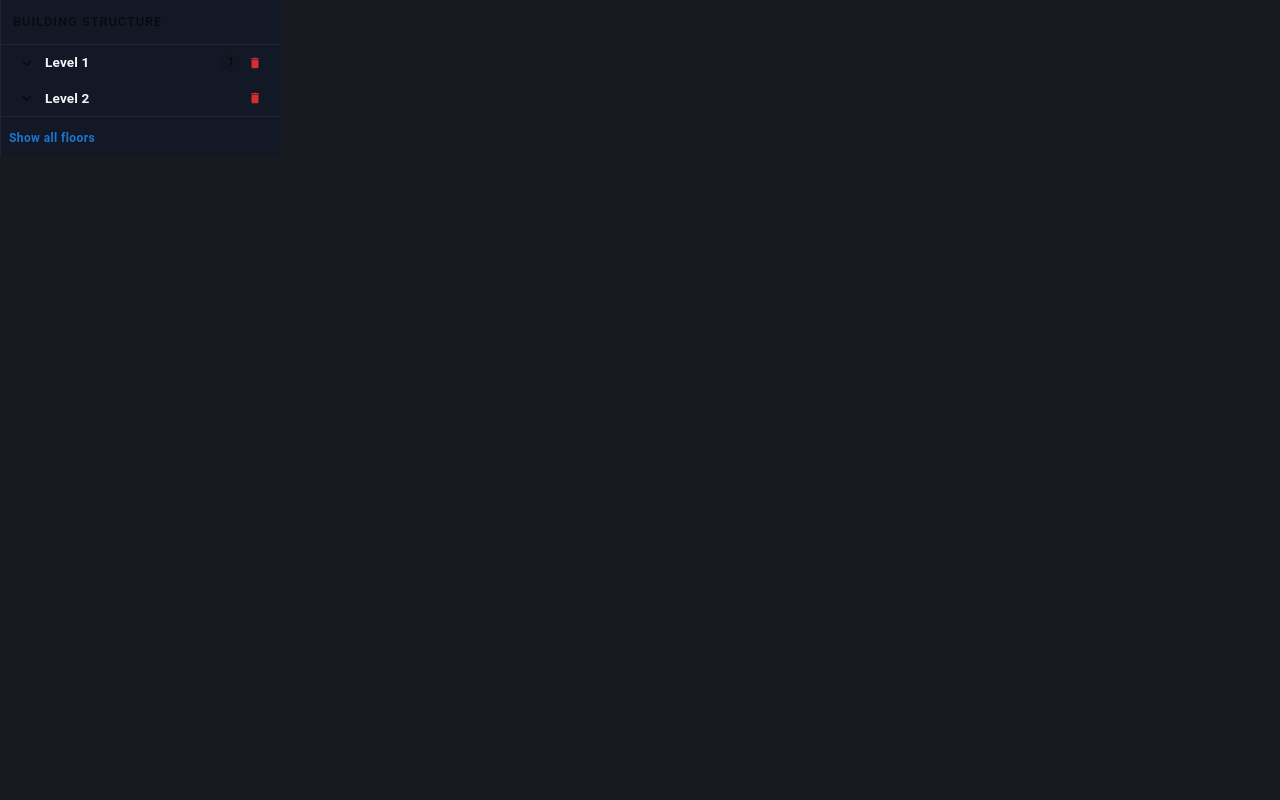
Test: BimSidePanel › Shall_show_delete_confirmation_for_floor
Note: Find delete button on Level 1 row
Click the 1st button named "Delete floor".
click(255, 63)  # box [246,54,264,72]
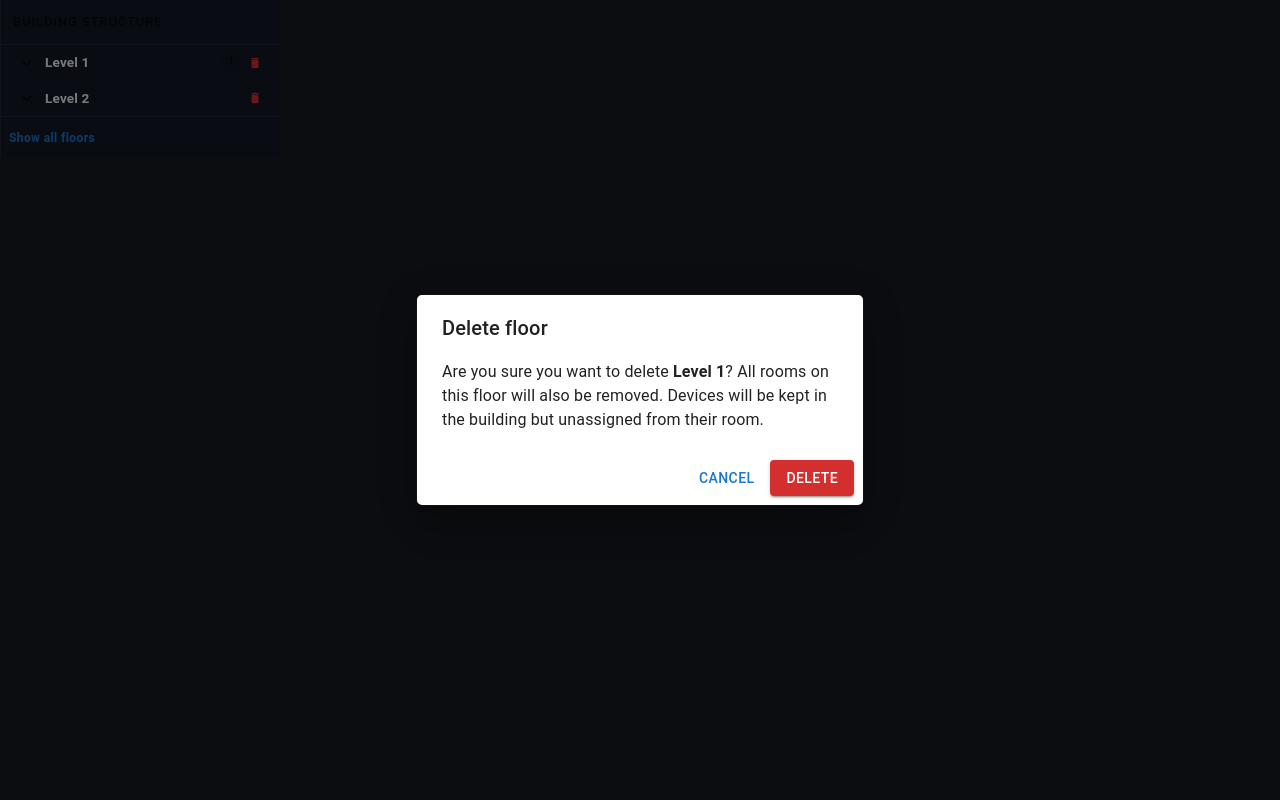
Result: the text "Are you sure you want to delete" is shown at [442,362,673,381]
